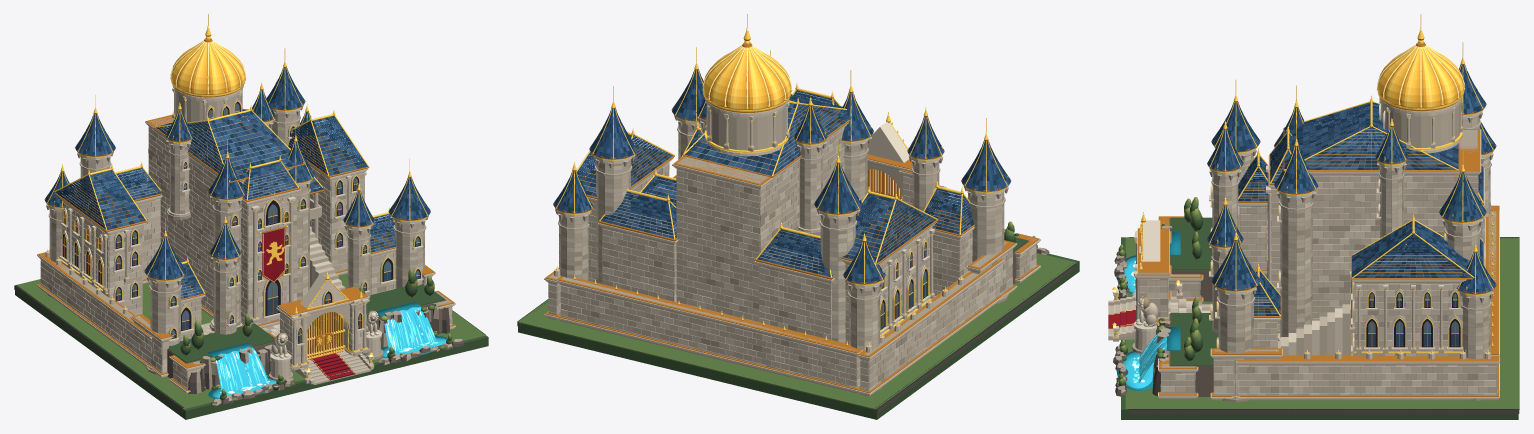
Rendered from stockade-nivel-10.glb.
The picture shows the model from 3 angles, left to right: view 1: azimuth 30°, elevation 25°; view 2: azimuth 150°, elevation 25°; view 3: azimuth 270°, elevation 25°; orthographic projection. The views are drawn at different scales.
Parts seen in each view (by area): view 1: Corps de logis #dfd1bc, Corps de logis #d3c5af, Galerias do recinto #dfd1bc, Corps de logis #eee2cb, Corps de logis #e8b849, Galerias do recinto #d3c5af, Corps de logis #284f75, Corps de logis #30577d, Embasamento e escadaria #648449, Corps de logis #38638b, Corps de logis #214568, Corps de logis #193957 (+51 smaller); view 2: Corps de logis #dfd1bc, Corps de logis #d3c5af, Galerias do recinto #dfd1bc, Galerias do recinto #d3c5af, Embasamento e escadaria #648449, Corps de logis #eee2cb, Galerias do recinto #eee2cb, Corps de logis #bcae9a, Galerias do recinto #bcae9a, Galerias do recinto #a66b26, Embasamento e escadaria #42613d, Corps de logis #284f75 (+22 smaller); view 3: Corps de logis #dfd1bc, Galerias do recinto #dfd1bc, Corps de logis #d3c5af, Embasamento e escadaria #648449, Galerias do recinto #d3c5af, Corps de logis #eee2cb, Galerias do recinto #eee2cb, Corps de logis #bcae9a, Galerias do recinto #a66b26, Galerias do recinto #bcae9a, Corps de logis #38638b, Corps de logis #30577d (+49 smaller).
Boxes of the visible parts, box(x1,y1,x2,y2) form: Corps de logis #dfd1bc: box(61, 88, 366, 327); Corps de logis #d3c5af: box(58, 91, 364, 324); Galerias do recinto #dfd1bc: box(38, 204, 434, 377); Corps de logis #eee2cb: box(58, 85, 368, 327); Corps de logis #e8b849: box(54, 25, 368, 318); Galerias do recinto #d3c5af: box(40, 209, 432, 365); Corps de logis #284f75: box(67, 67, 361, 229); Corps de logis #30577d: box(55, 70, 356, 227); Embasamento e escadaria #648449: box(15, 273, 485, 409); Corps de logis #38638b: box(59, 73, 361, 225); Corps de logis #214568: box(57, 69, 367, 229); Corps de logis #193957: box(58, 70, 365, 228); Corps de logis #dfd1bc: box(588, 102, 935, 342); Corps de logis #d3c5af: box(588, 104, 934, 344); Galerias do recinto #dfd1bc: box(545, 115, 1015, 395); Galerias do recinto #d3c5af: box(548, 126, 1012, 388); Embasamento e escadaria #648449: box(517, 253, 1076, 410); Corps de logis #eee2cb: box(587, 98, 936, 339); Galerias do recinto #eee2cb: box(544, 117, 1017, 394); Corps de logis #bcae9a: box(583, 112, 929, 342); Galerias do recinto #bcae9a: box(547, 124, 1013, 396); Galerias do recinto #a66b26: box(545, 69, 1015, 393); Embasamento e escadaria #42613d: box(518, 253, 1079, 419); Corps de logis #284f75: box(579, 91, 936, 273); Corps de logis #dfd1bc: box(1267, 100, 1482, 356); Galerias do recinto #dfd1bc: box(1209, 149, 1498, 399); Corps de logis #d3c5af: box(1271, 103, 1481, 356); Embasamento e escadaria #648449: box(1125, 237, 1519, 409); Galerias do recinto #d3c5af: box(1211, 154, 1497, 395); Corps de logis #eee2cb: box(1266, 97, 1484, 356); Galerias do recinto #eee2cb: box(1209, 148, 1499, 398); Corps de logis #bcae9a: box(1271, 116, 1484, 355); Galerias do recinto #a66b26: box(1207, 101, 1499, 396); Galerias do recinto #bcae9a: box(1213, 154, 1497, 402); Corps de logis #38638b: box(1270, 65, 1485, 277); Corps de logis #30577d: box(1270, 65, 1485, 277).
Bounding box in the file's own units: 32.75 × 28.32 × 33.03.
